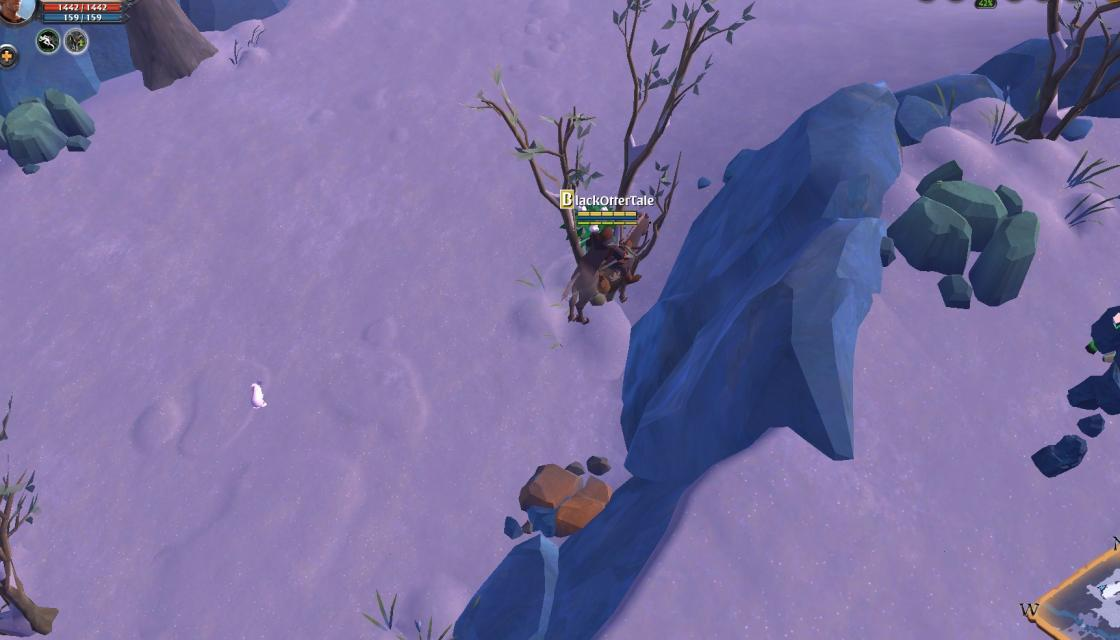limestone: (514, 462, 614, 532)
sandstone: (883, 159, 1041, 319), (0, 84, 95, 163)
